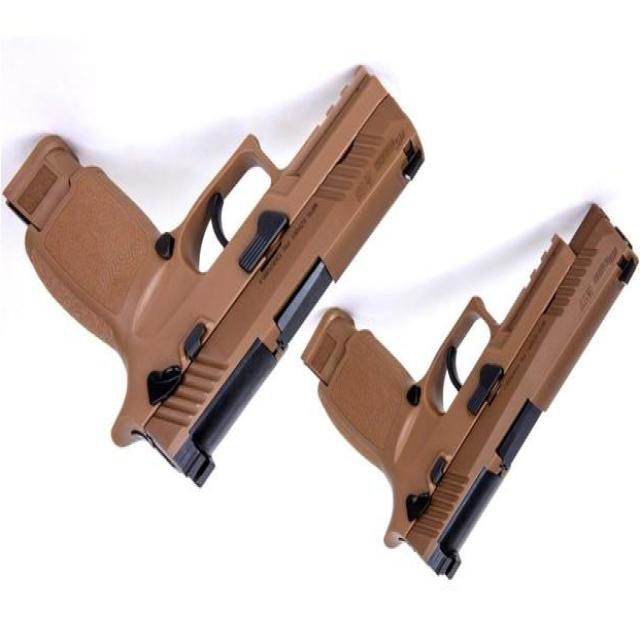Weapon: (1, 40, 427, 493), (300, 185, 636, 586)
